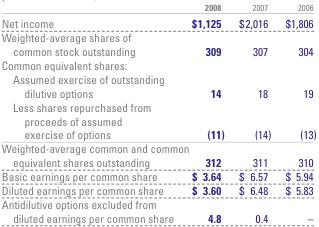table: (0, 0, 315, 224)
table column: (0, 0, 190, 224), (230, 0, 277, 224), (190, 0, 230, 224), (277, 0, 315, 224)
table column header: (0, 0, 315, 13)
table projected row header: (0, 57, 315, 71)
table row: (0, 99, 315, 141), (0, 29, 315, 57), (0, 71, 315, 99), (0, 196, 315, 224), (0, 141, 315, 168), (0, 13, 315, 29), (0, 57, 315, 71), (0, 168, 315, 182), (0, 182, 315, 196), (0, 0, 315, 13)
